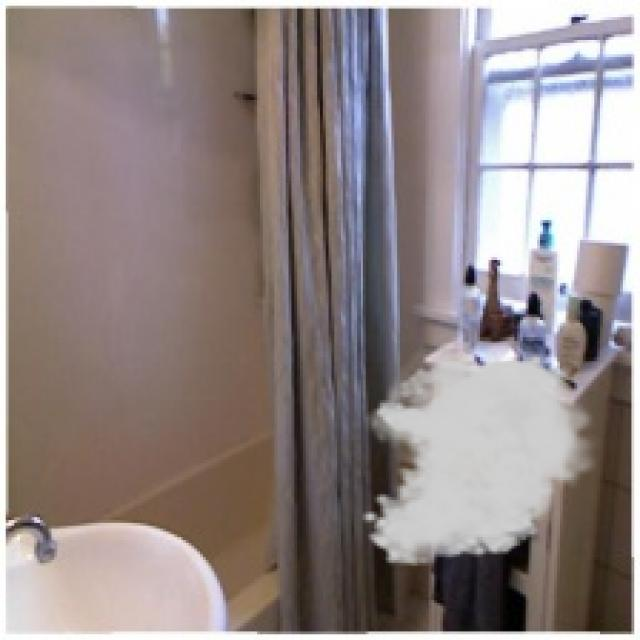smoke: (360, 340, 603, 569)
